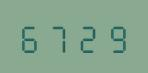nine: (102, 20, 129, 53)
seven: (46, 20, 73, 53)
six: (18, 20, 45, 53)
two: (74, 20, 101, 53)
